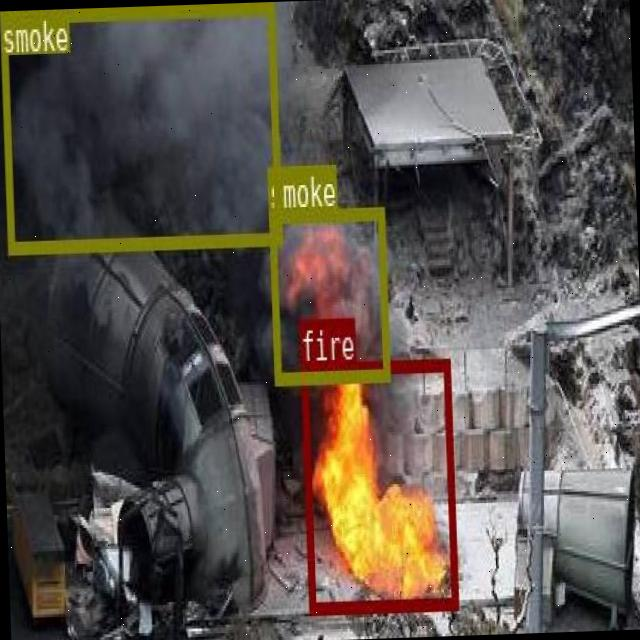fire: (299, 358, 456, 612)
smoke: (0, 1, 280, 249), (268, 204, 388, 380)
